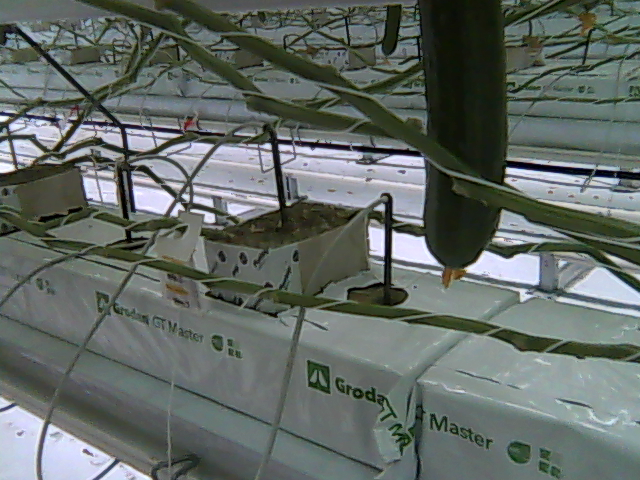concombre: (412, 1, 511, 293)
